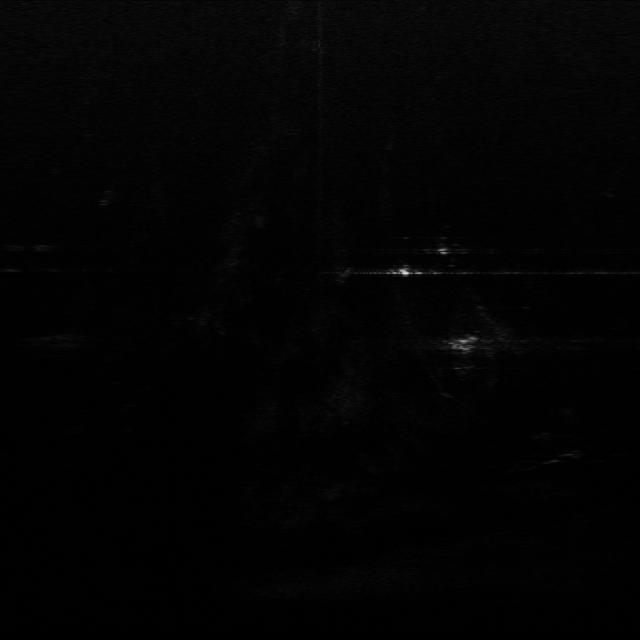rov: (444, 332, 484, 357)
